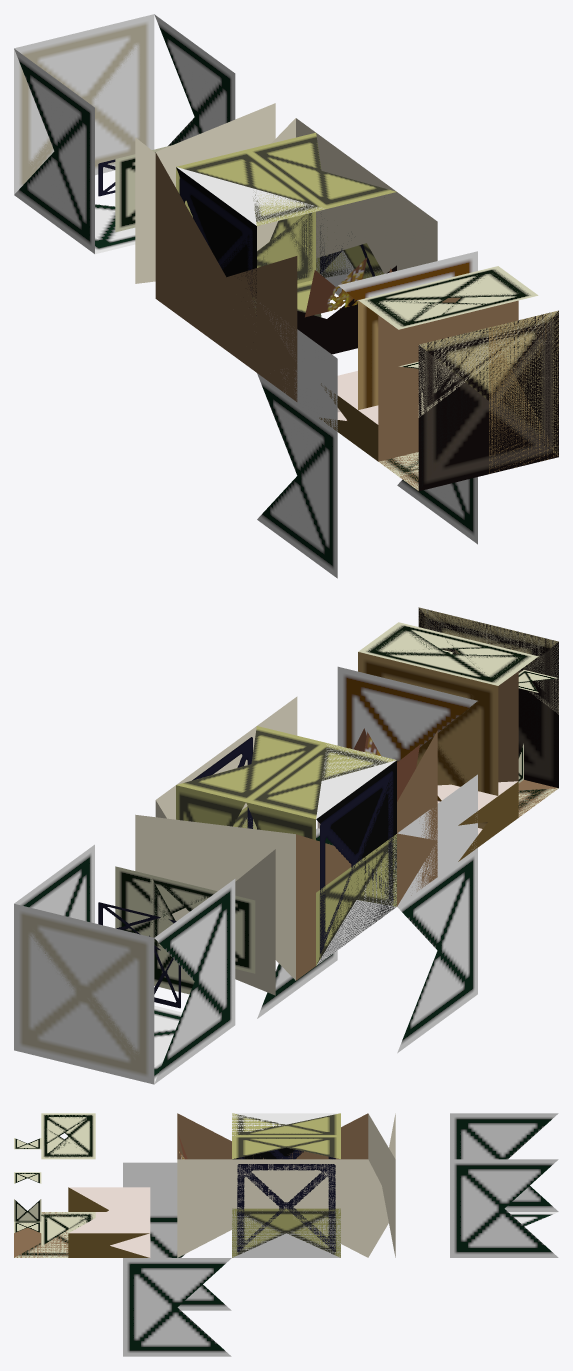
The model's file is town_geometry_type_10.obj.
3 views of the same model, one above another, from view 1: azimuth 30°, elevation 25°; view 2: azimuth 150°, elevation 25°; view 3: azimuth 270°, elevation 25° (orthographic). The views are drawn at different scales.
Visible parts, largest first — view 1: face_list_030, face_list_000, face_list_049, face_list_043, face_list_017, face_list_023, face_list_034, face_list_035, face_list_026, face_list_019, face_list_047, face_list_036 (+15 smaller); view 2: face_list_030, face_list_043, face_list_023, face_list_047, face_list_017, face_list_050, face_list_026, face_list_057, face_list_035, face_list_049, face_list_015, face_list_056 (+17 smaller); view 3: face_list_049, face_list_035, face_list_017, face_list_052, face_list_030, face_list_023, face_list_016, face_list_021, face_list_019, face_list_024, face_list_036, face_list_055 (+7 smaller).
Part boxes in pixels (<box>): face_list_030: <box>155,103,498,490</box>; face_list_000: <box>418,311,558,491</box>; face_list_049: <box>135,118,518,461</box>; face_list_043: <box>14,14,154,194</box>; face_list_017: <box>257,373,477,578</box>; face_list_023: <box>14,48,252,297</box>; face_list_034: <box>419,310,558,455</box>; face_list_035: <box>154,14,374,317</box>; face_list_026: <box>176,167,323,315</box>; face_list_019: <box>260,265,396,431</box>; face_list_047: <box>14,16,154,194</box>; face_list_036: <box>246,132,396,208</box>; face_list_030: <box>135,671,558,980</box>; face_list_043: <box>14,903,154,1084</box>; face_list_023: <box>154,771,393,1084</box>; face_list_047: <box>14,904,154,1084</box>; face_list_017: <box>257,828,477,1053</box>; face_list_050: <box>337,666,477,801</box>; face_list_026: <box>316,743,396,962</box>; face_list_057: <box>359,630,537,795</box>; face_list_035: <box>14,737,252,923</box>; face_list_049: <box>155,696,557,995</box>; face_list_015: <box>154,834,396,1083</box>; face_list_056: <box>416,686,558,828</box>; face_list_049: <box>14,1113,395,1257</box>; face_list_035: <box>237,1159,558,1257</box>; face_list_017: <box>123,1212,231,1356</box>; face_list_052: <box>68,1187,150,1257</box>; face_list_030: <box>14,1113,395,1257</box>; face_list_023: <box>237,1113,558,1211</box>; face_list_016: <box>232,1208,340,1257</box>; face_list_021: <box>232,1209,340,1257</box>; face_list_019: <box>123,1162,177,1211</box>; face_list_024: <box>232,1113,340,1136</box>; face_list_036: <box>232,1136,340,1158</box>; face_list_055: <box>14,1113,95,1159</box>.
Bounding box in the file's own units: 69 × 128 × 320.
31 materials, 31 textured.
